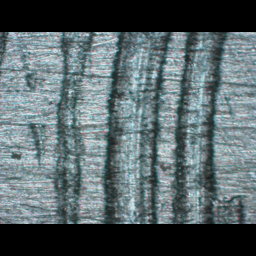d: (40, 32, 236, 224)
